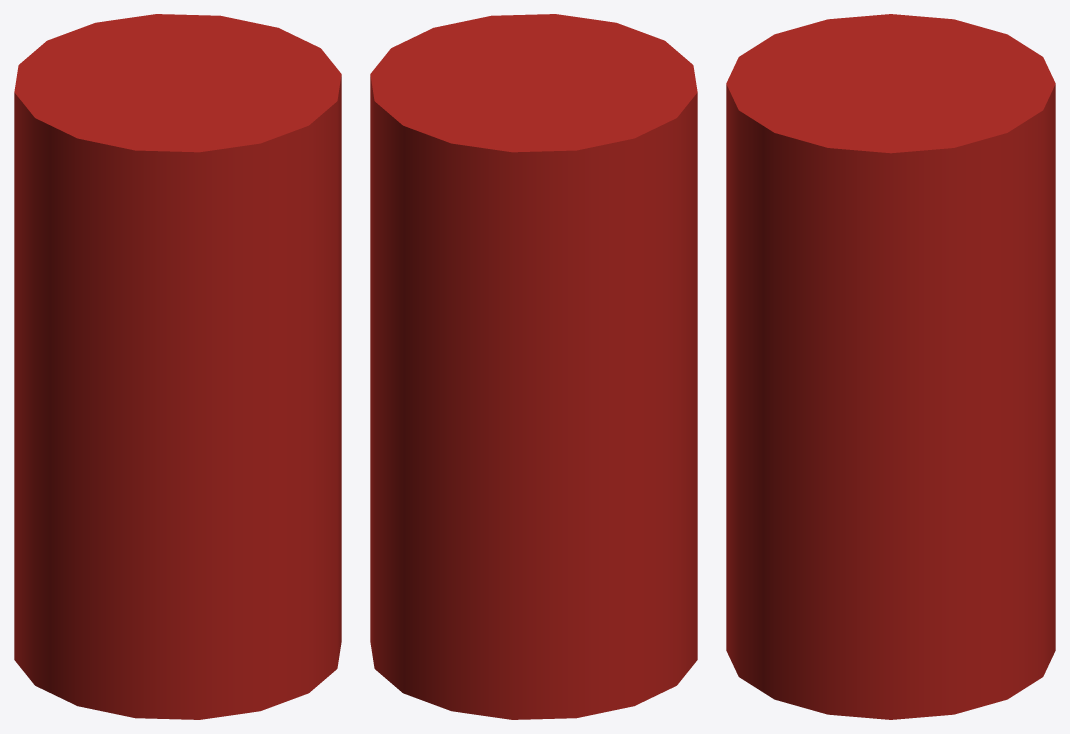
3 views of the same model, side by side, from view 1: azimuth 30°, elevation 25°; view 2: azimuth 150°, elevation 25°; view 3: azimuth 270°, elevation 25° (orthographic).
Visible parts, largest first — view 1: cylinders.001; view 2: cylinders.001; view 3: cylinders.001.
Part boxes in pixels (<box>): cylinders.001: <box>14,14,341,719</box>; cylinders.001: <box>370,14,697,719</box>; cylinders.001: <box>726,14,1055,719</box>.
Size of the model in its own units: 77.59 by 147 by 77.59.
